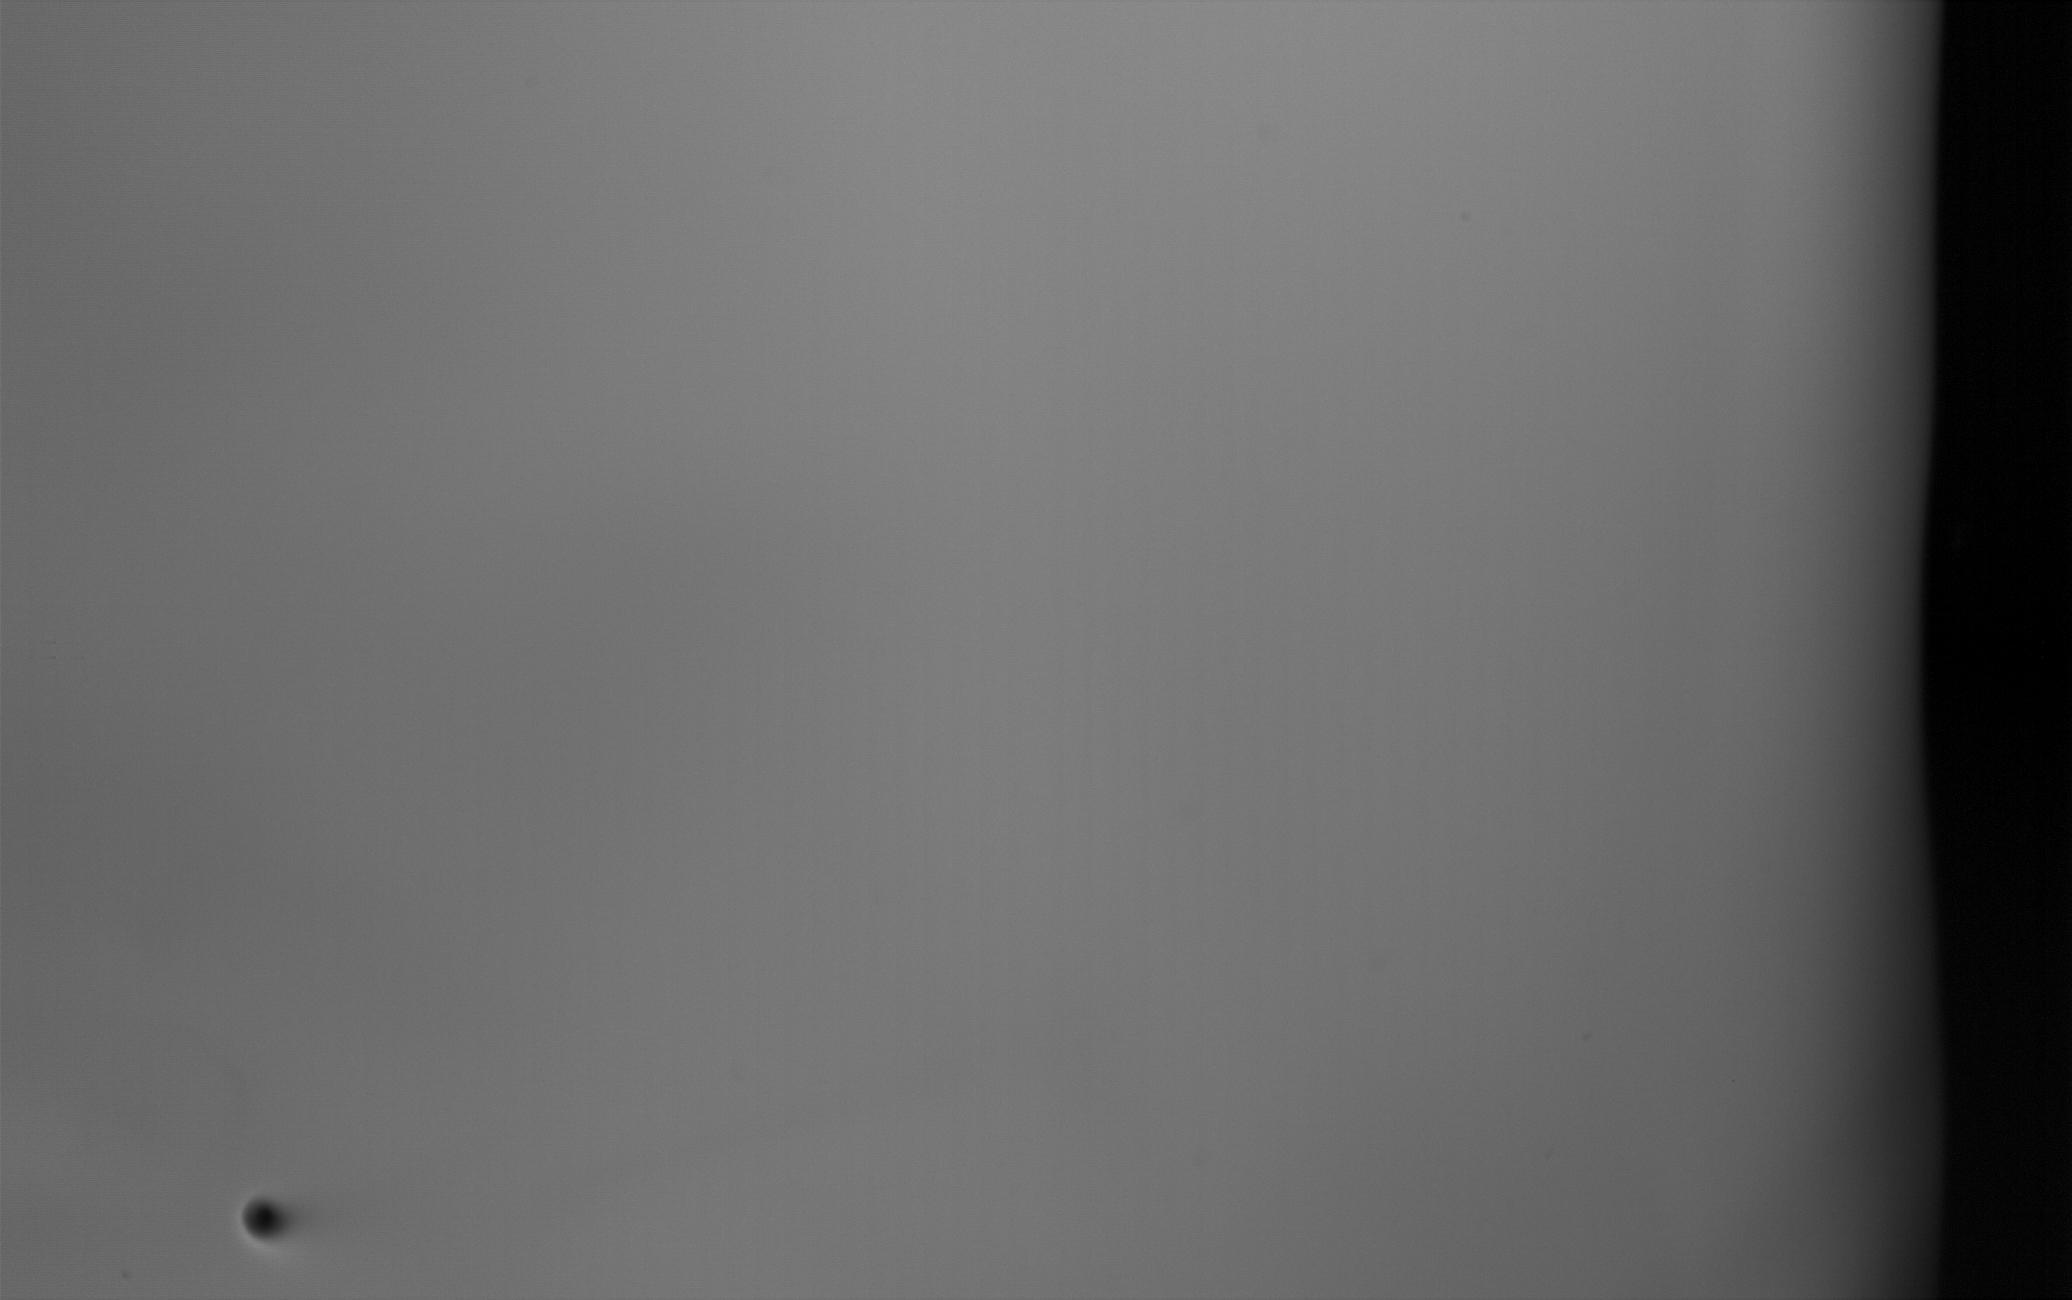ClassicalEvaporation: (241, 1194, 293, 1245)
